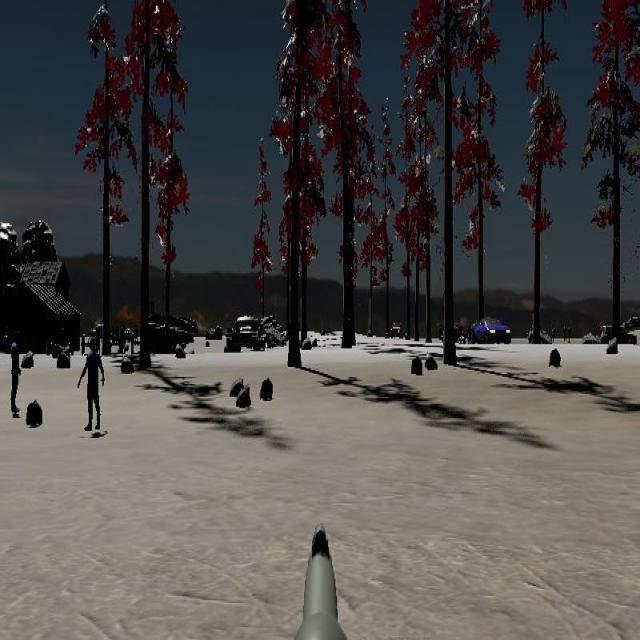Tank: (228, 313, 264, 352)
car: (471, 317, 511, 345)
